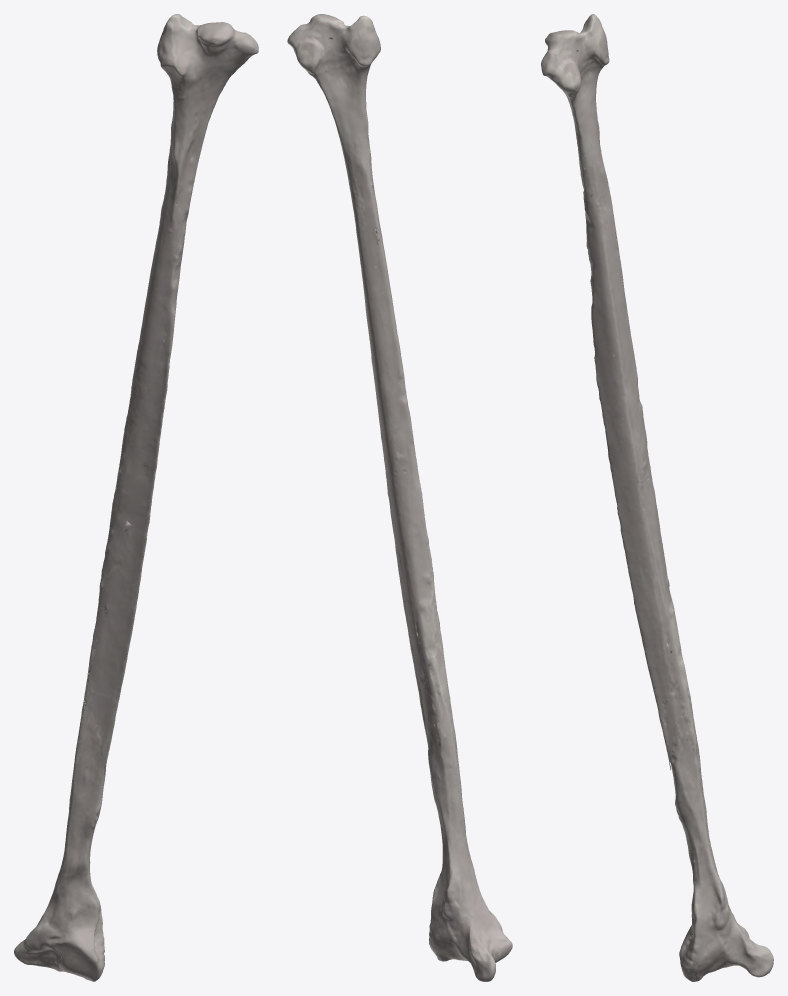
The picture shows the model from 3 angles, left to right: view 1: azimuth 30°, elevation 25°; view 2: azimuth 210°, elevation 25°; view 3: azimuth 270°, elevation 25°; orthographic projection. The views are drawn at different scales.
Parts seen in each view (by area): view 1: Fibula_li_Katze.001; view 2: Fibula_li_Katze.001; view 3: Fibula_li_Katze.001.
Boxes of the visible parts, box(x1,y1,x2,y2) form: Fibula_li_Katze.001: box(14, 14, 258, 981); Fibula_li_Katze.001: box(287, 14, 512, 981); Fibula_li_Katze.001: box(541, 14, 773, 981).
Bounding box in the file's own units: 1533 × 10147 × 2177.
Materials: 1 (1 with a texture image).
